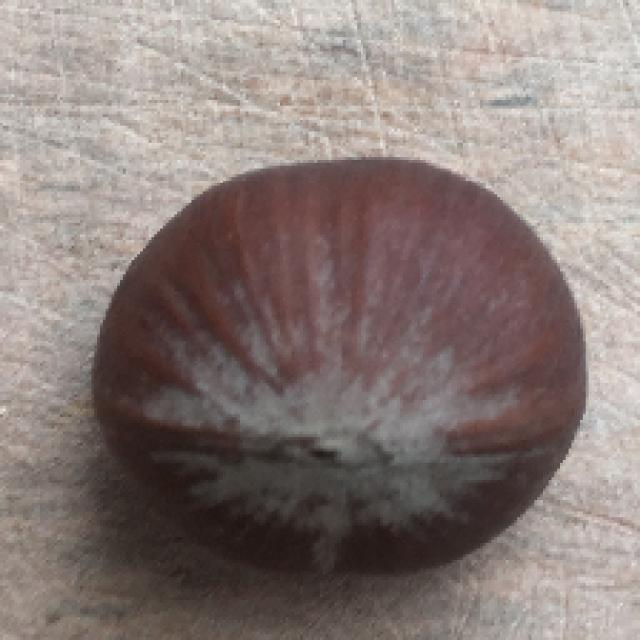damagedHazelnut: (88, 154, 589, 589)
